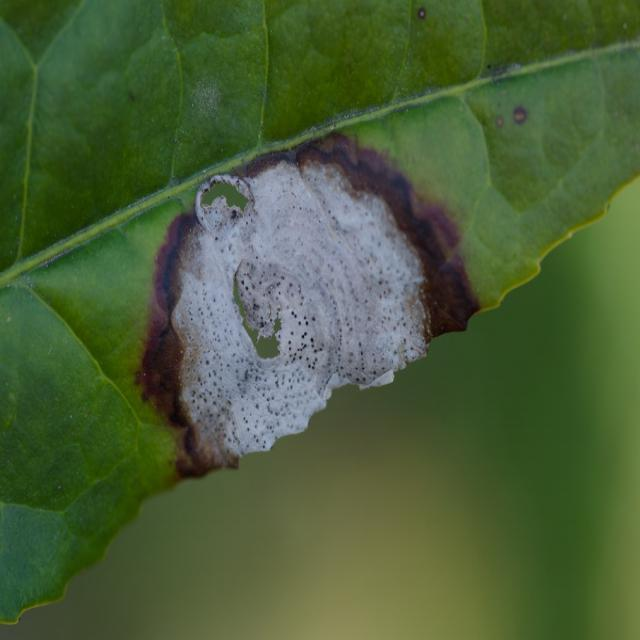Tea cloud leaf blight: (148, 138, 475, 470)
